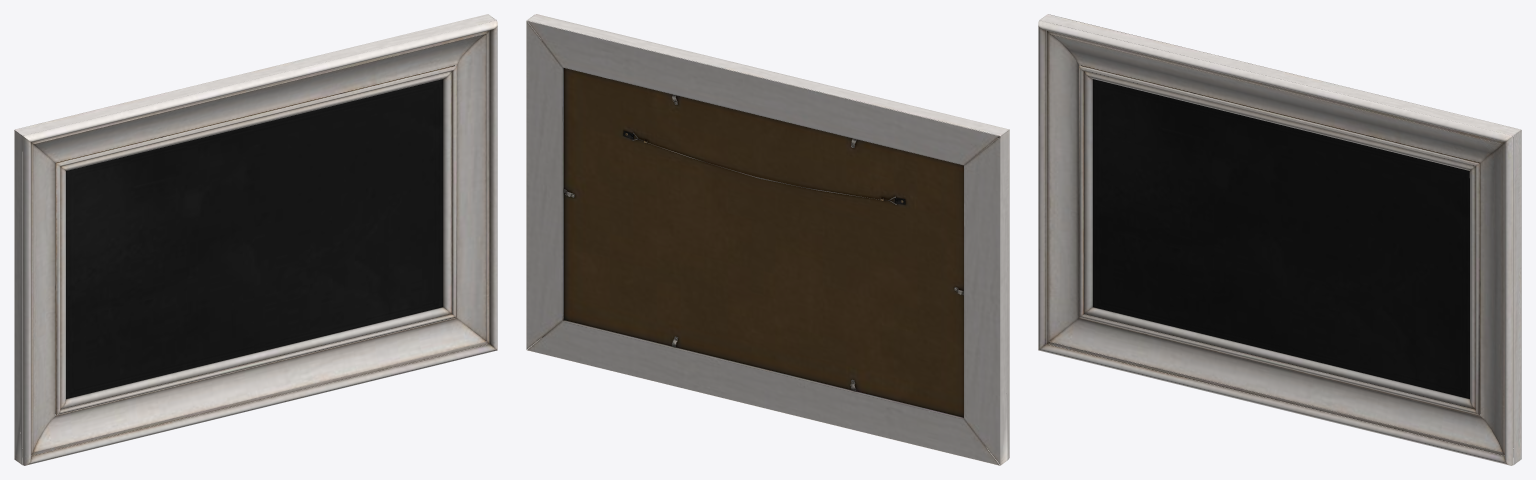
File: picture_b.glb
3 renders of one model, left to right at view 1: azimuth 30°, elevation 25°; view 2: azimuth 150°, elevation 25°; view 3: azimuth 330°, elevation 25°, orthographic.
Visible parts, largest first — view 1: hanging_picture_frame_02_artwork; view 2: hanging_picture_frame_02_artwork; view 3: hanging_picture_frame_02_artwork.
Boxes of the visible parts, left/top/right/bottom form: hanging_picture_frame_02_artwork: left=14, top=14, right=497, bottom=465; hanging_picture_frame_02_artwork: left=526, top=14, right=1009, bottom=465; hanging_picture_frame_02_artwork: left=1038, top=14, right=1521, bottom=465.
Bounding box in the file's own units: 0.7517 × 0.4998 × 0.0325.
Materials: 3 (3 with a texture image).
